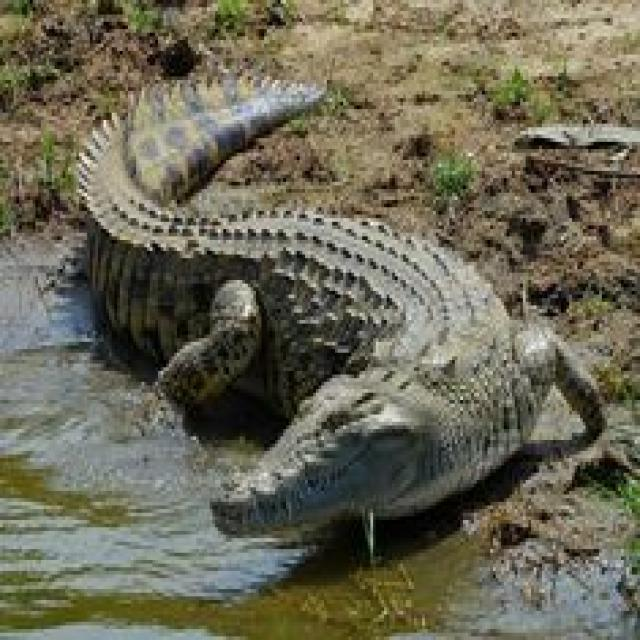Carnivorous: (76, 76, 607, 545)
